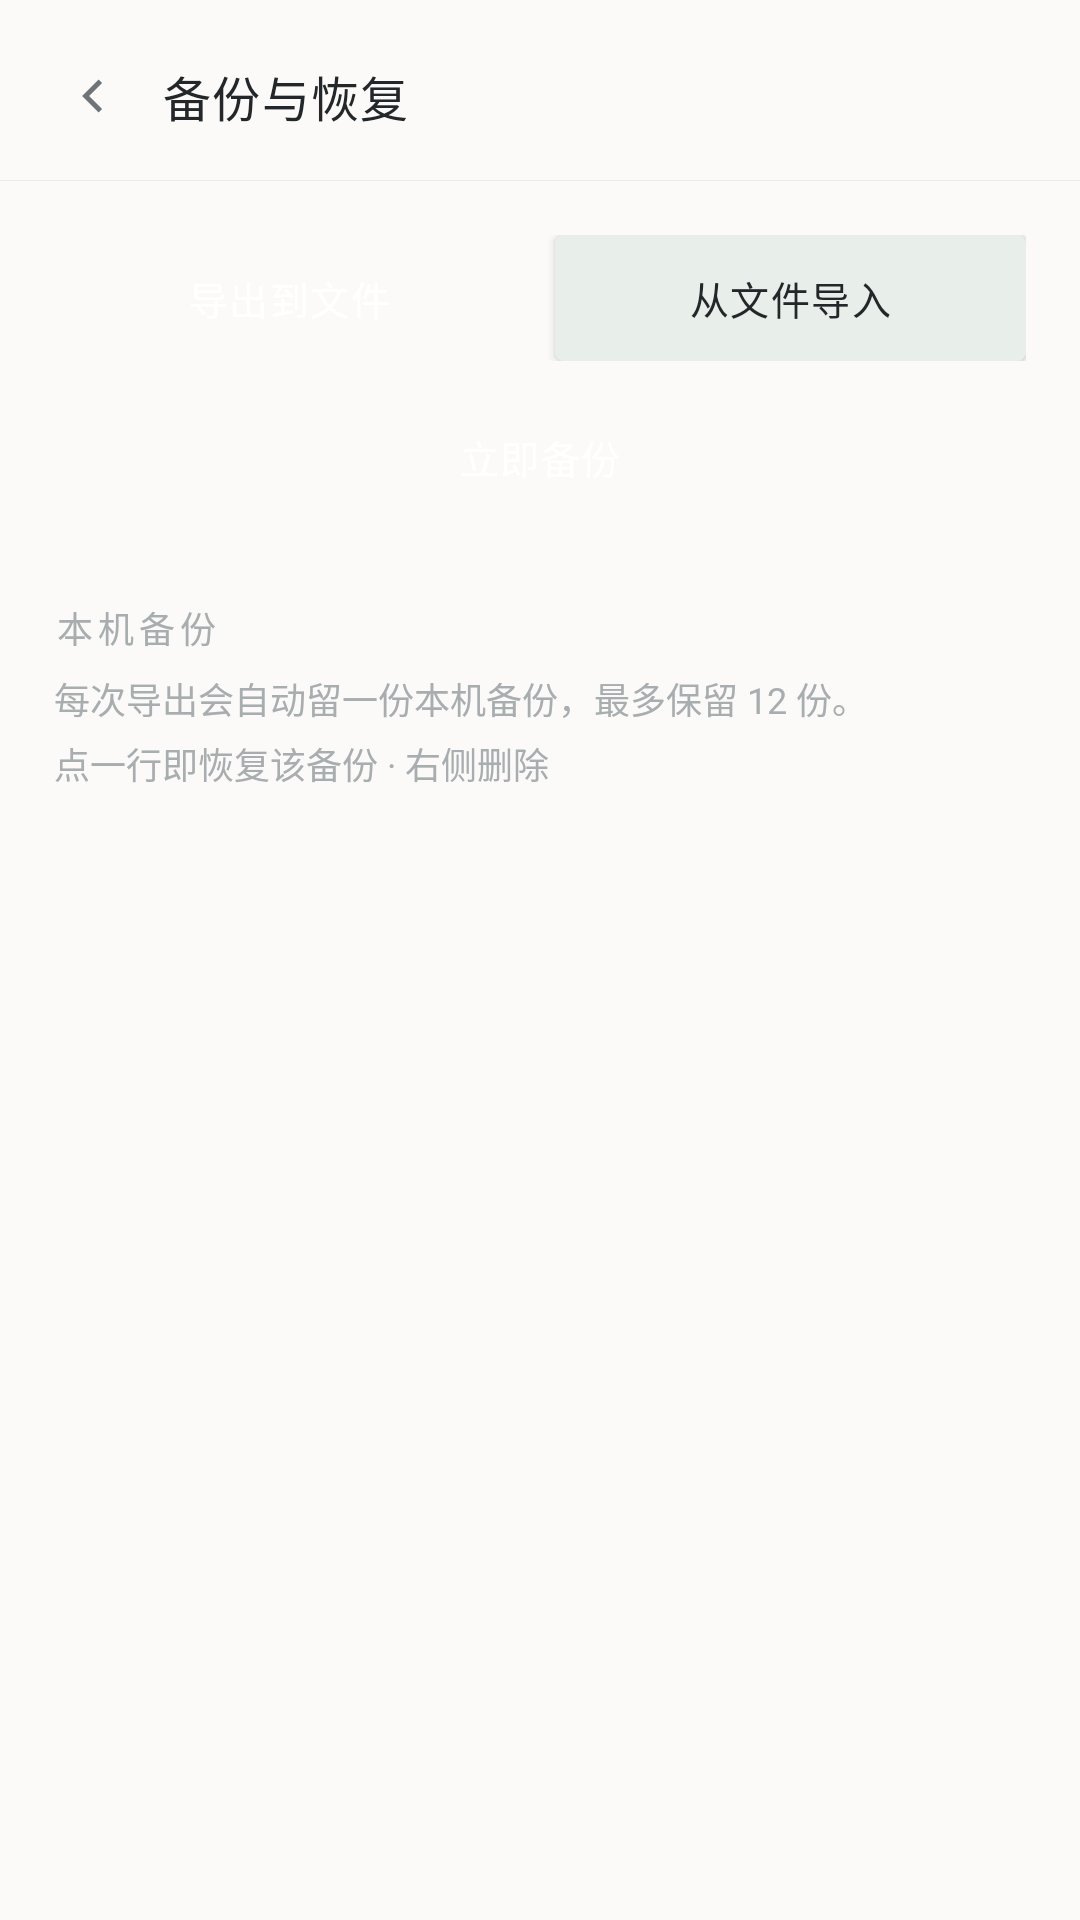

Icon click points for this 1080px x 1920px phone screenshot, format (x=x, y=y):
返回: (x=92, y=96)
